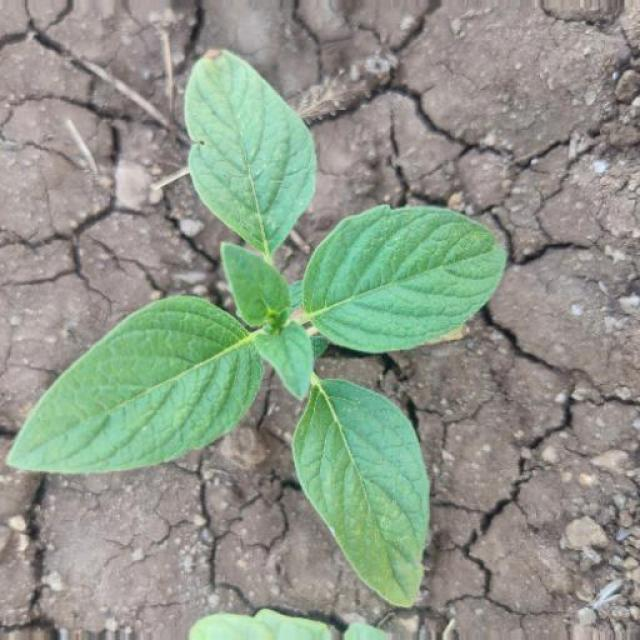crop: (16, 42, 512, 612)
